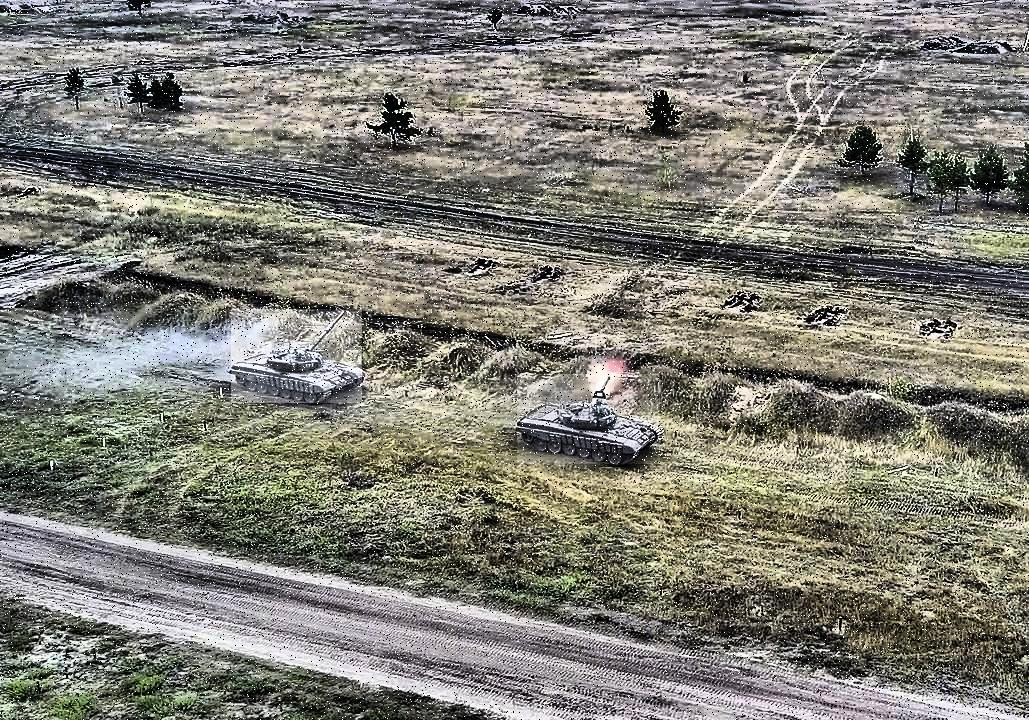military-vehicle: (518, 374, 661, 464), (231, 309, 362, 403)
